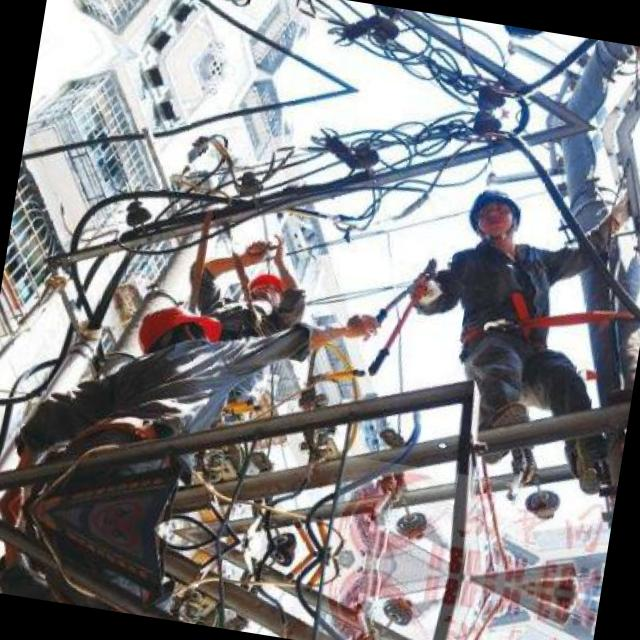helmet: (130, 296, 226, 368), (464, 178, 528, 249), (243, 267, 291, 316), (494, 24, 552, 52)
